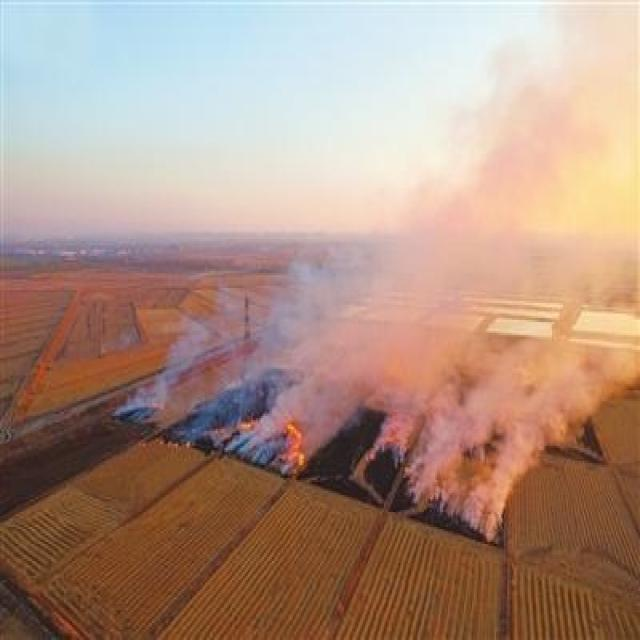Fire: (282, 420, 304, 467), (238, 418, 258, 433)
Smoke: (112, 4, 640, 544)
